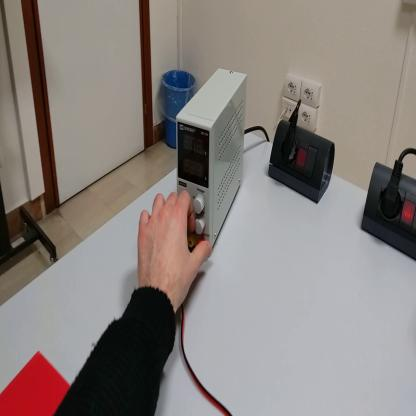hand: (137, 190, 210, 309)
power supply: (177, 69, 249, 250)
register: (1, 350, 70, 416)
socket: (268, 121, 338, 205), (363, 157, 416, 259)
